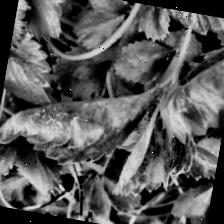Powdery Mildew Leaf: (0, 60, 162, 181), (152, 30, 224, 151)
